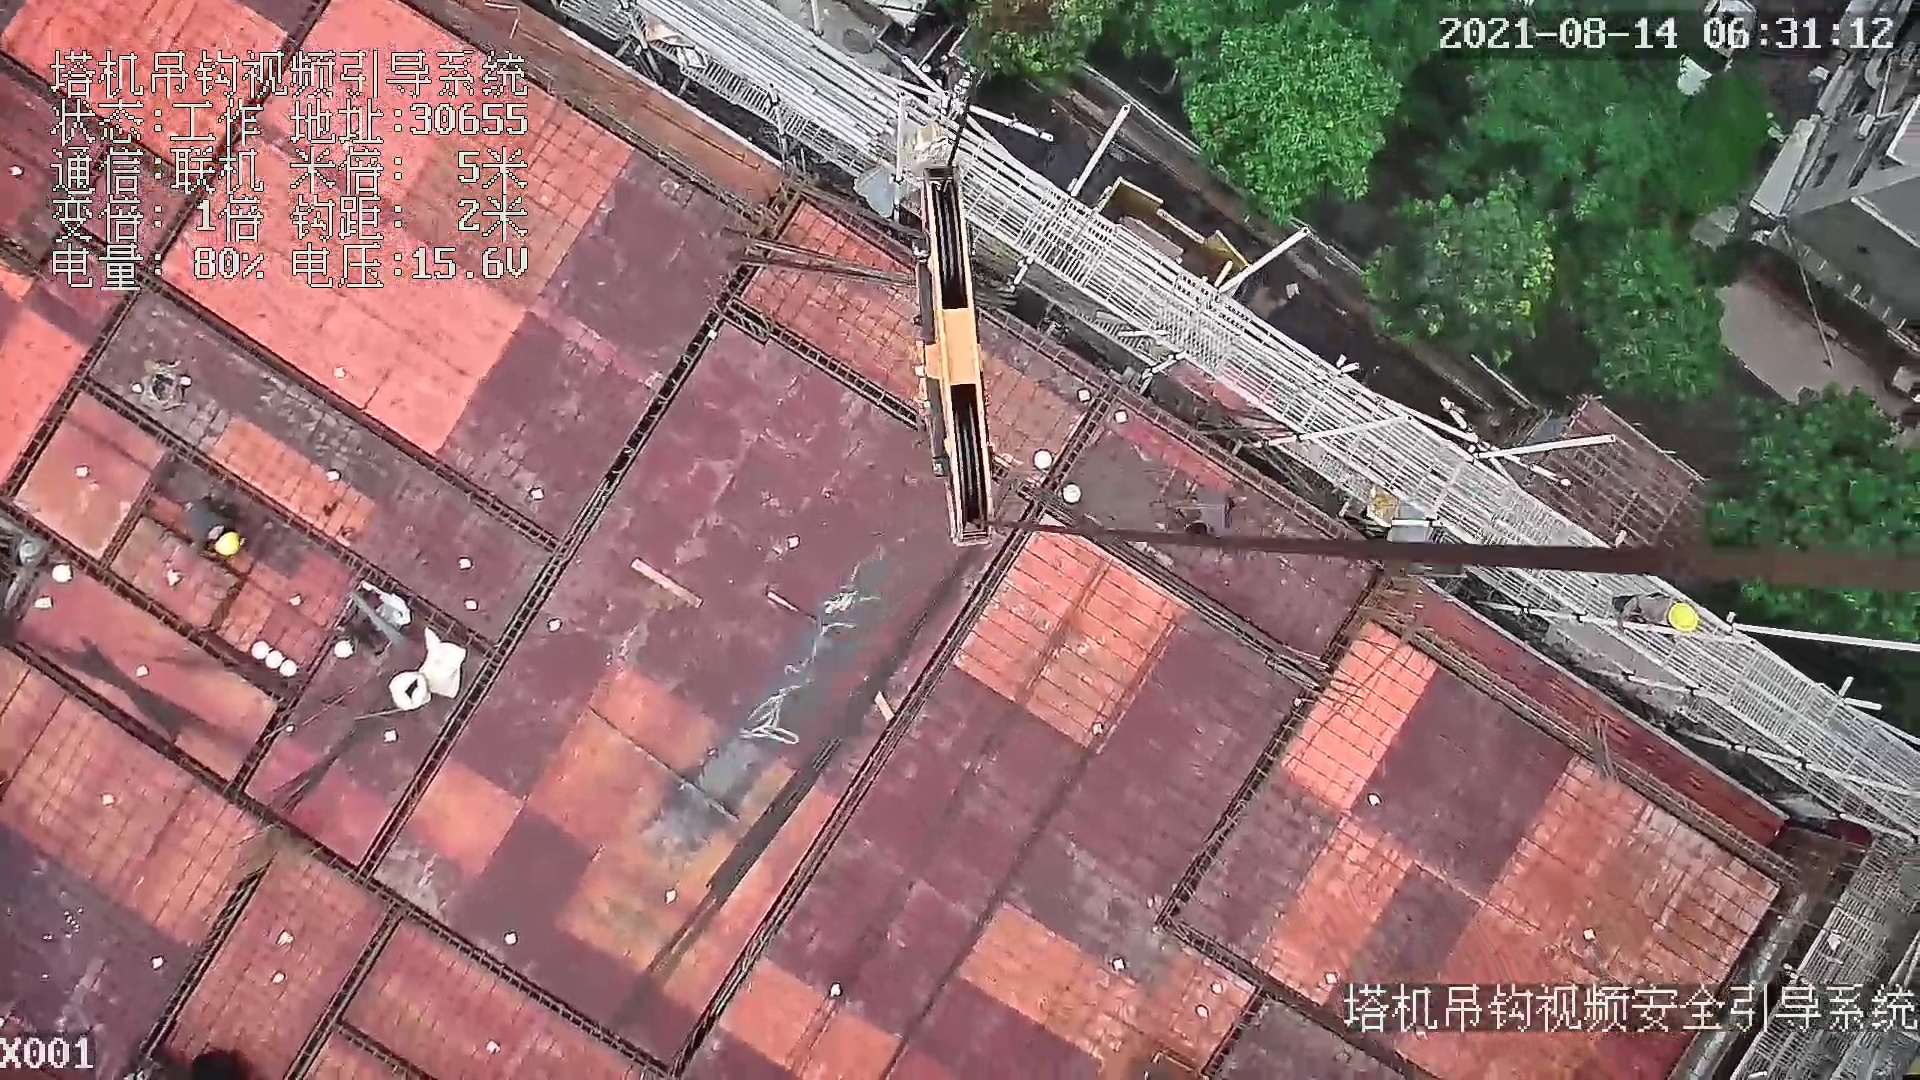helmet: (1669, 600, 1700, 633), (210, 533, 243, 559)
hook: (905, 165, 1000, 547)
person: (169, 492, 253, 564), (1618, 582, 1704, 649)
